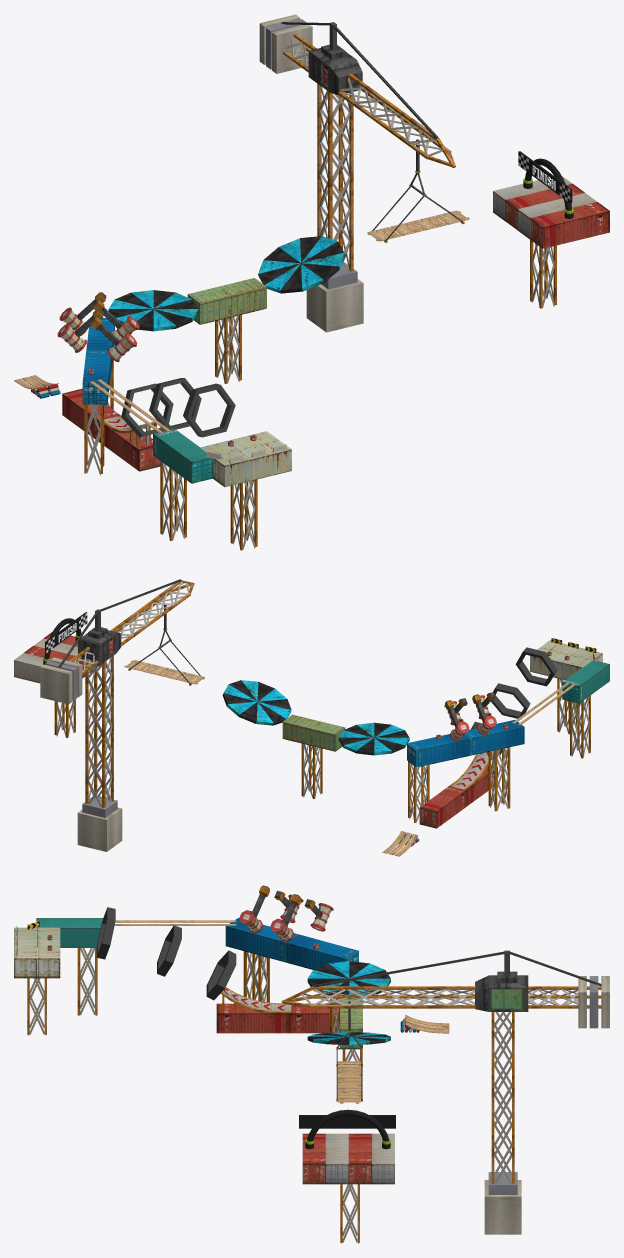
Rendered from 19_Parkour.fbx.
3 renders of one model, top to bottom at view 1: azimuth 30°, elevation 25°; view 2: azimuth 150°, elevation 25°; view 3: azimuth 270°, elevation 25°, orthographic. The views are drawn at different scales.
Visible parts, largest first — view 1: CraneOrange, TurningPlatform__1_, TurningPlatform, stcontainerred__8_, stcontainergreentwo, stcontainerwhite__2_, stcontainergreen, orangescaffold__5_, orangescaffold__4_, orangescaffold, stcontainerred__5_, finishObject (+13 smaller); view 2: CraneOrange, TurningPlatform__1_, TurningPlatform, stcontainergreentwo, stcontainerblue__1_, stcontainerred__4_, stcontainerblue, stcontainergreen, orangescaffold__2_, stcontainerwhite__1_, orangescaffold__5_, orangescaffold (+14 smaller); view 3: CraneOrange, finishObject, TurningPlatform, stcontainerred__5_, stcontainerblue__1_, stcontainerblue, stcontainergreen, stcontainerwhitetwo__1_, stcontainerred__7_, stcontainerred__4_, stcontainerwhite__1_, stcontainerwhite__2_ (+17 smaller).
Part boxes in pixels (x1,y1,x2,y2): CraneOrange: (259,14,455,332); TurningPlatform__1_: (258,236,345,293); TurningPlatform: (108,290,198,331); stcontainerred__8_: (530,202,609,248); stcontainergreentwo: (187,278,266,324); stcontainerwhite__2_: (212,440,291,487); stcontainergreen: (153,428,212,483); orangescaffold__5_: (160,461,186,540); orangescaffold__4_: (230,479,257,550); orangescaffold: (215,314,241,383); stcontainerred__5_: (104,424,160,471); finishObject: (518,151,573,218); CraneOrange: (40,579,194,851); TurningPlatform__1_: (222,680,291,725); TurningPlatform: (338,722,409,755); stcontainergreentwo: (282,714,345,751); stcontainerblue__1_: (407,734,469,767); stcontainerred__4_: (419,785,467,828); stcontainerblue: (464,719,524,755); stcontainergreen: (562,660,609,703); orangescaffold__2_: (488,747,510,811); stcontainerwhite__1_: (530,647,592,680); orangescaffold__5_: (570,695,590,758); orangescaffold: (301,743,322,798); CraneOrange: (281,950,609,1234); finishObject: (299,1109,395,1149); TurningPlatform: (307,961,390,995); stcontainerred__5_: (216,1003,288,1033); stcontainerblue__1_: (286,934,358,969); stcontainerblue: (225,918,297,962); stcontainergreen: (36,918,103,947); stcontainerwhitetwo__1_: (325,1133,348,1184); stcontainerred__7_: (348,1133,371,1184); stcontainerred__4_: (288,1003,338,1033); stcontainerwhite__1_: (37,927,60,978); stcontainerwhite__2_: (14,927,36,978).
Bounding box in the file's own units: 13940 × 7004 × 13765.
